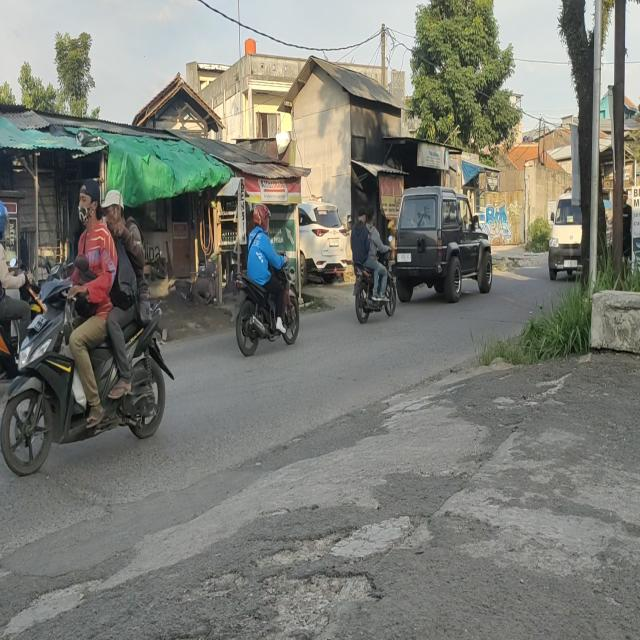helmet: (0, 195, 12, 239), (253, 201, 270, 231)
no-helmet: (78, 180, 102, 228), (104, 189, 128, 231), (356, 205, 366, 224), (368, 206, 375, 227)
